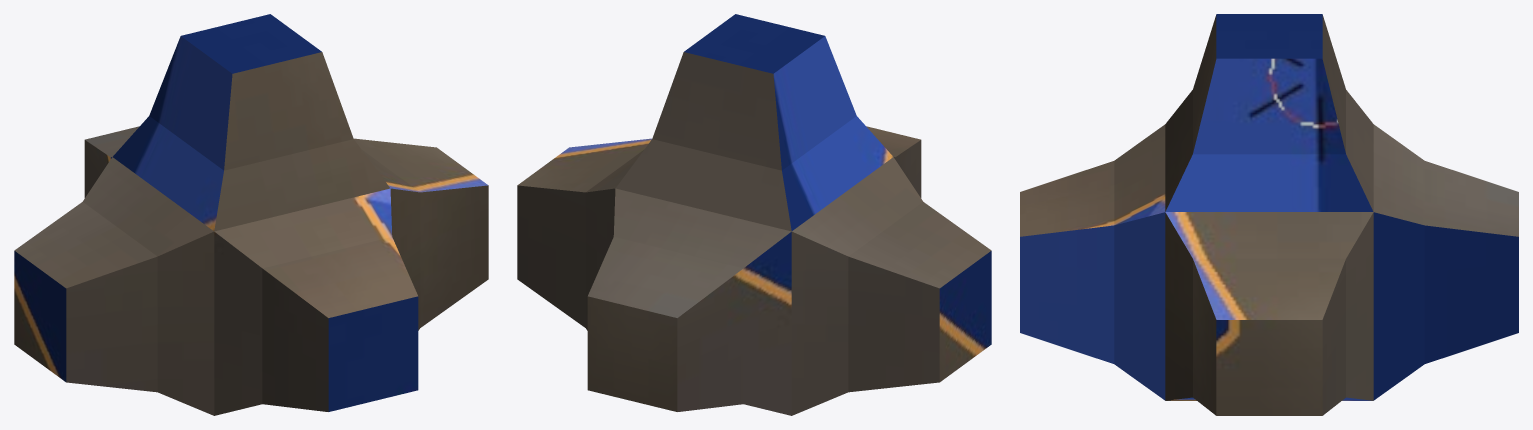
The model's file is extended_cube_01.glb.
3 renders of one model, left to right at view 1: azimuth 30°, elevation 25°; view 2: azimuth 150°, elevation 25°; view 3: azimuth 270°, elevation 25°, orthographic. The views are drawn at different scales.
Visible parts, largest first — view 1: extended cube test_01.obj; view 2: extended cube test_01.obj; view 3: extended cube test_01.obj.
Part boxes in pixels (<box>): extended cube test_01.obj: <box>14,14,488,415</box>; extended cube test_01.obj: <box>517,14,991,415</box>; extended cube test_01.obj: <box>1020,14,1518,415</box>.
Size of the model in its own units: 6.35 by 4.5 by 6.35.
1 material, 1 textured.
